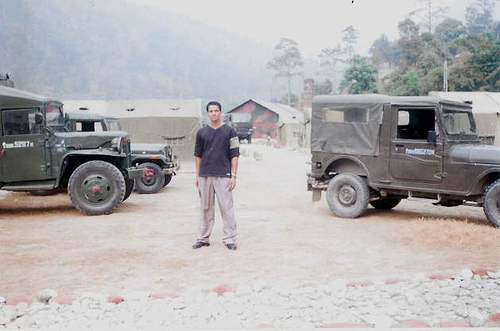without_mask: (202, 101, 226, 123)
